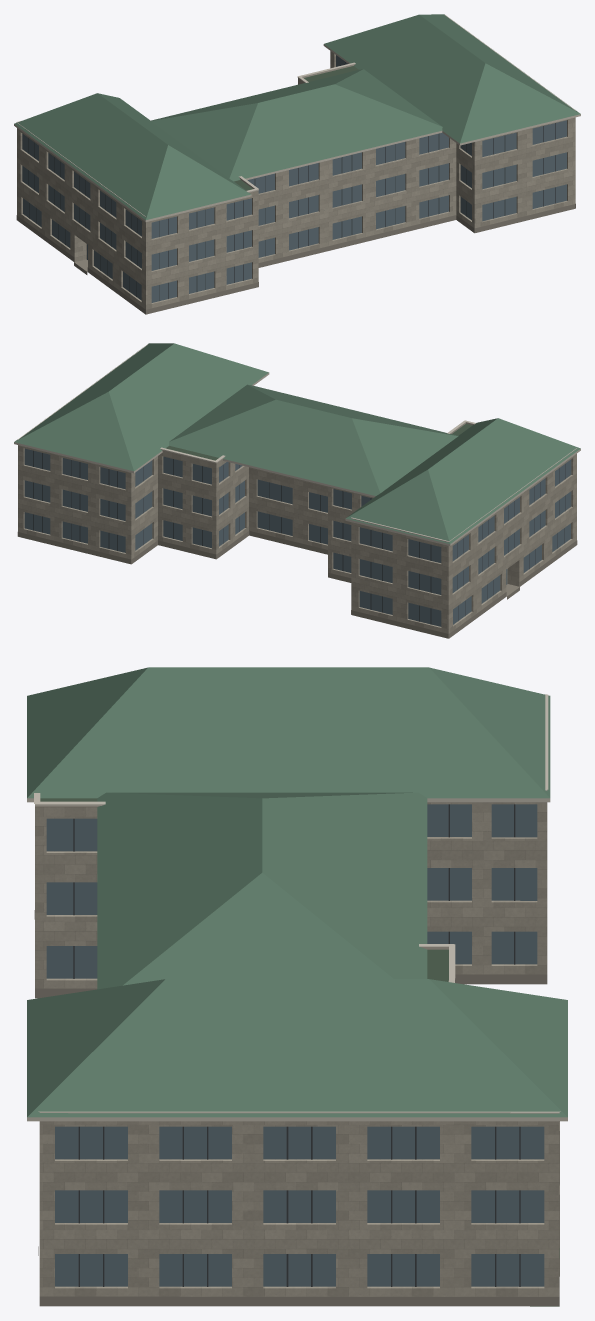
3 renders of one model, top to bottom at view 1: azimuth 30°, elevation 25°; view 2: azimuth 150°, elevation 25°; view 3: azimuth 270°, elevation 25°, orthographic. The views are drawn at different scales.
Visible parts, largest first — view 1: pharmA__roofAccent, pharmA__wall, pharmA__glass, pharmA__base, pharmA__trim, pharmA__frame, pharmA__roof; view 2: pharmA__roofAccent, pharmA__wall, pharmA__glass, pharmA__base, pharmA__trim, pharmA__frame; view 3: pharmA__roofAccent, pharmA__wall, pharmA__glass, pharmA__base, pharmA__trim, pharmA__frame, pharmA__roof.
Part boxes in pixels (x1,y1,x2,y2): pharmA__roofAccent: (14, 14, 580, 219); pharmA__wall: (17, 51, 575, 313); pharmA__glass: (22, 55, 566, 302); pharmA__base: (16, 204, 575, 314); pharmA__trim: (14, 14, 580, 221); pharmA__frame: (28, 62, 555, 300); pharmA__roof: (234, 66, 474, 233); pharmA__roofAccent: (14, 343, 580, 543); pharmA__wall: (18, 445, 576, 638); pharmA__glass: (24, 448, 571, 626); pharmA__base: (17, 531, 577, 638); pharmA__trim: (14, 344, 580, 545); pharmA__frame: (33, 450, 565, 624); pharmA__roofAccent: (27, 667, 567, 1117); pharmA__wall: (35, 802, 559, 1296); pharmA__glass: (46, 804, 544, 1286); pharmA__base: (34, 910, 559, 1306); pharmA__trim: (27, 694, 567, 1121); pharmA__frame: (73, 804, 520, 1286); pharmA__roof: (40, 798, 559, 1306).
Bounding box in the file's own units: 56.8 × 17.4 × 30.8.
Materials: 9 (1 with a texture image).
